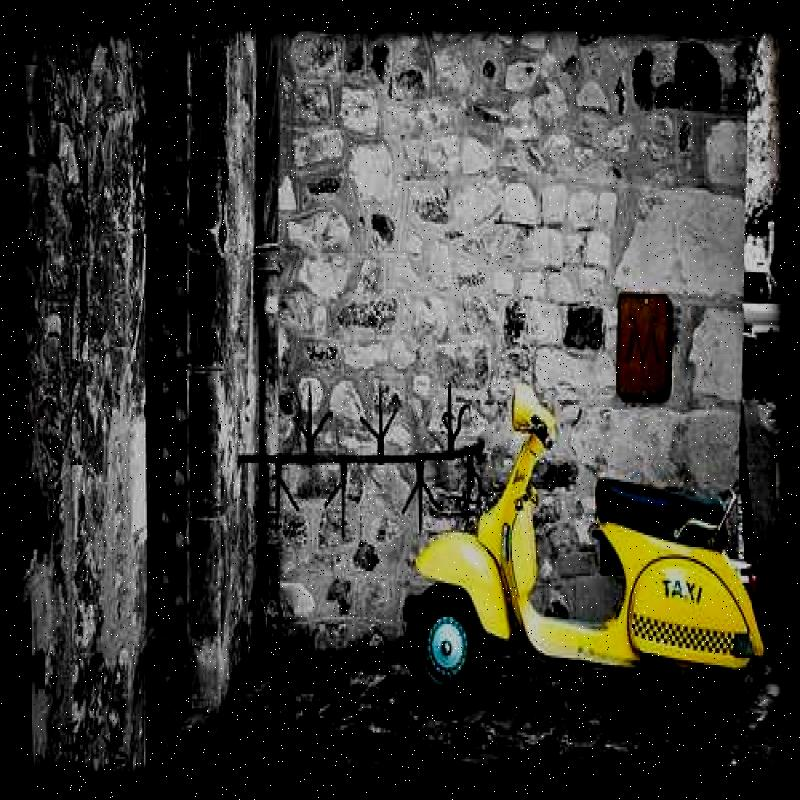bike: (410, 376, 769, 686)
